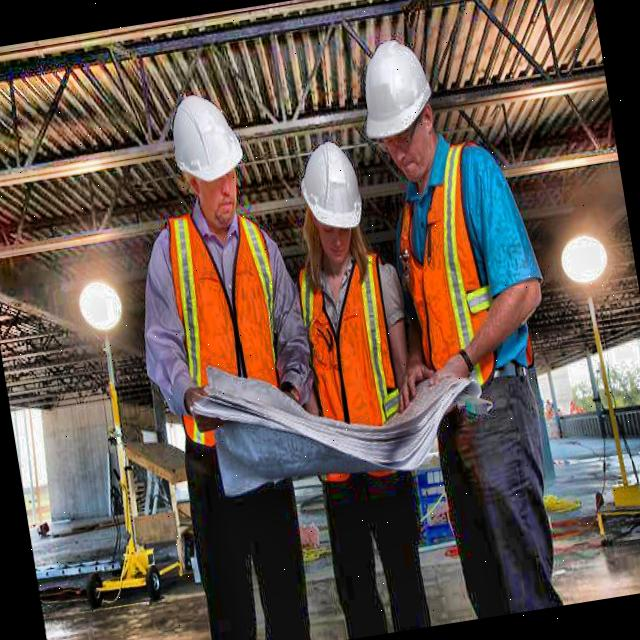helmet: (346, 13, 453, 208), (158, 66, 262, 252), (286, 128, 382, 284)
